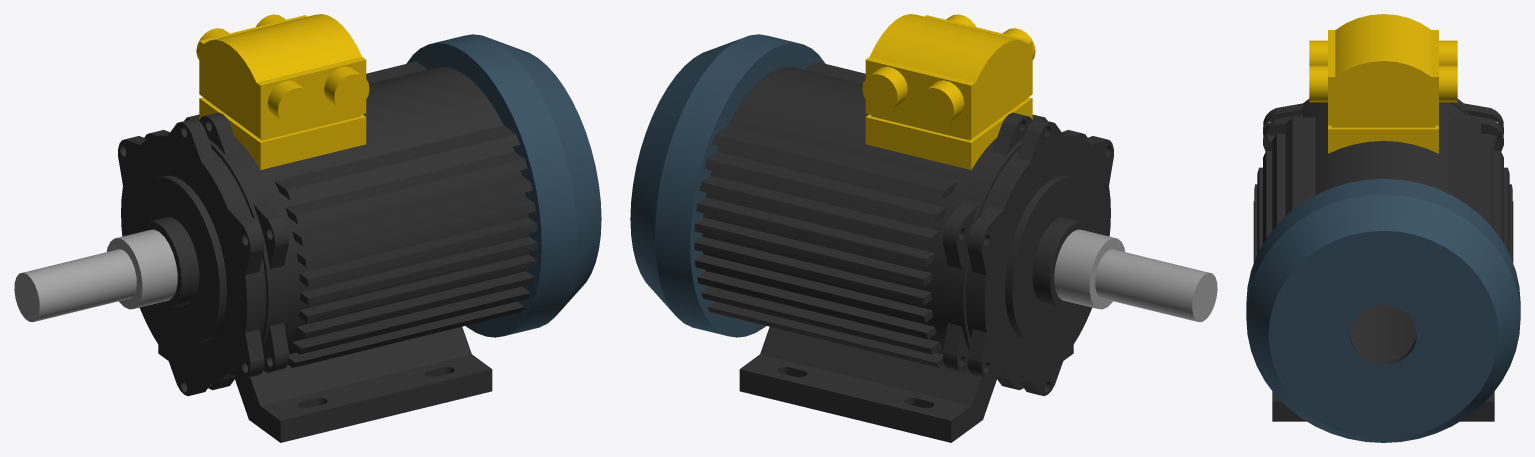
The model's file is machinery_-_single_pashe_dc_motor.glb.
3 renders of one model, left to right at view 1: azimuth 30°, elevation 25°; view 2: azimuth 150°, elevation 25°; view 3: azimuth 270°, elevation 25°, orthographic. The views are drawn at different scales.
Parts seen in each view (by area): view 1: Object_6, Object_5, Object_4, Object_2; view 2: Object_6, Object_5, Object_4, Object_2; view 3: Object_5, Object_6, Object_4.
Part boxes in pixels (x1,y1,x2,y2): Object_6: (118,61,537,442); Object_5: (406,34,601,337); Object_4: (196,14,369,169); Object_2: (14,229,177,321); Object_6: (694,61,1113,442); Object_5: (630,34,825,337); Object_4: (862,14,1035,169); Object_2: (1054,229,1217,321); Object_5: (1246,178,1520,442); Object_6: (1253,99,1513,421); Object_4: (1309,14,1457,153).
Bounding box in the file's own units: 1.96 × 1.28 × 1.
